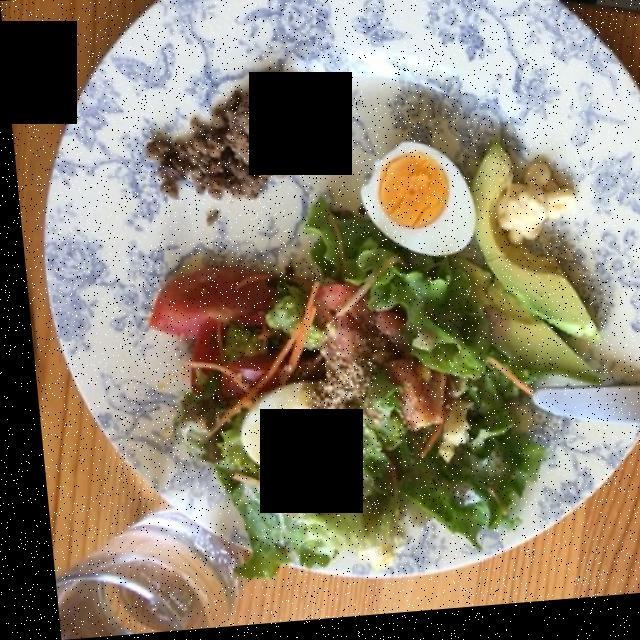avocado: (442, 156, 596, 392)
beef: (147, 93, 292, 202)
carrot: (184, 272, 386, 438)
mayonnaise: (493, 177, 564, 244)
salad: (178, 205, 526, 575)
tomato: (131, 269, 435, 434)
water: (77, 506, 221, 633)
